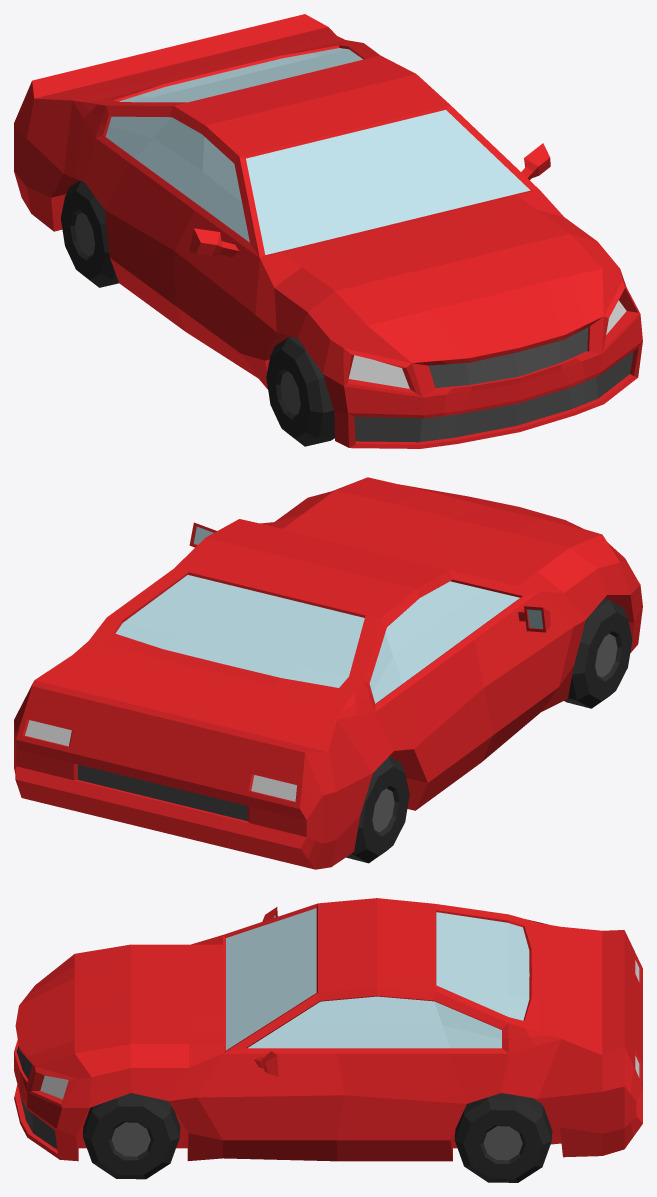
Rendered from Car5.glb.
3 views of the same model, one above another, from view 1: azimuth 30°, elevation 25°; view 2: azimuth 150°, elevation 25°; view 3: azimuth 270°, elevation 25° (orthographic). The views are drawn at different scales.
Visible parts, largest first — view 1: Body_Cube.001, FrontRightWheel_Cylinder.002, BackRightWheel_Cylinder.003; view 2: Body_Cube.001, FrontRightWheel_Cylinder.002, BackRightWheel_Cylinder.003; view 3: Body_Cube.001, BackLeftWheel_Cylinder.001, FrontLeftWheel_Cylinder.
Part boxes in pixels (left/top/right/bottom): Body_Cube.001: left=14, top=14, right=642, bottom=448; FrontRightWheel_Cylinder.002: left=266, top=337, right=334, bottom=446; BackRightWheel_Cylinder.003: left=60, top=180, right=118, bottom=287; Body_Cube.001: left=14, top=477, right=642, bottom=869; FrontRightWheel_Cylinder.002: left=564, top=598, right=632, bottom=708; BackRightWheel_Cylinder.003: left=346, top=756, right=409, bottom=863; Body_Cube.001: left=14, top=898, right=642, bottom=1161; BackLeftWheel_Cylinder.001: left=454, top=1093, right=552, bottom=1182; FrontLeftWheel_Cylinder: left=82, top=1093, right=180, bottom=1179.
Size of the model in its own units: 8.52 by 4.63 by 14.99.
